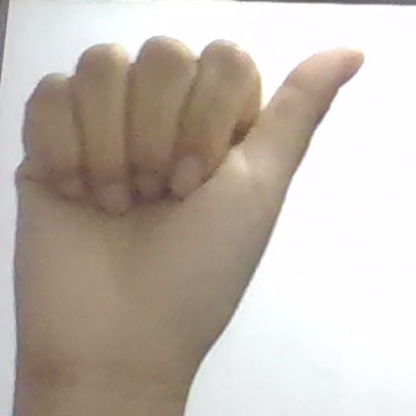A: (14, 37, 363, 376)
